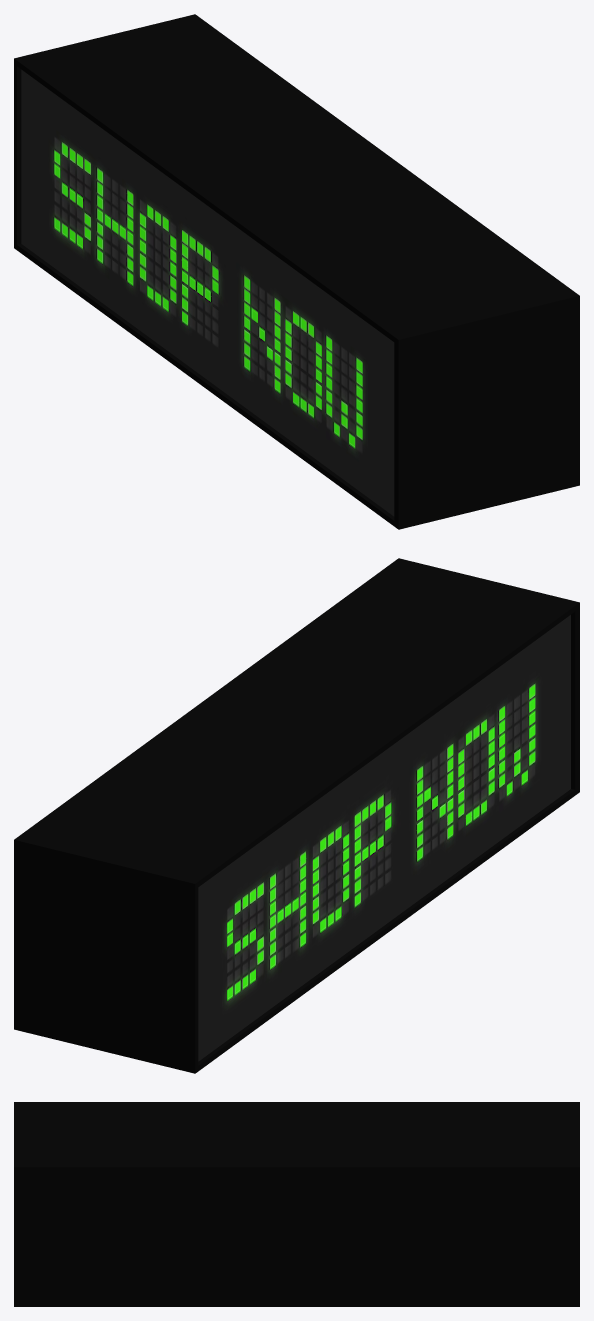
3 views of the same model, one above another, from view 1: azimuth 30°, elevation 25°; view 2: azimuth 150°, elevation 25°; view 3: azimuth 270°, elevation 25° (orthographic). The views are drawn at different scales.
Visible parts, largest first — view 1: Cube.125, Plane.201; view 2: Cube.125, Plane.201; view 3: Cube.125.
Part boxes in pixels (box(x1,y1,x2,y2)): Cube.125: box(14, 14, 579, 529); Plane.201: box(21, 69, 394, 516); Cube.125: box(14, 558, 579, 1073); Plane.201: box(198, 615, 570, 1061); Cube.125: box(14, 1102, 579, 1306).
Size of the model in its own units: 0.3547 by 0.3547 by 1.3.
2 materials, 1 textured.
